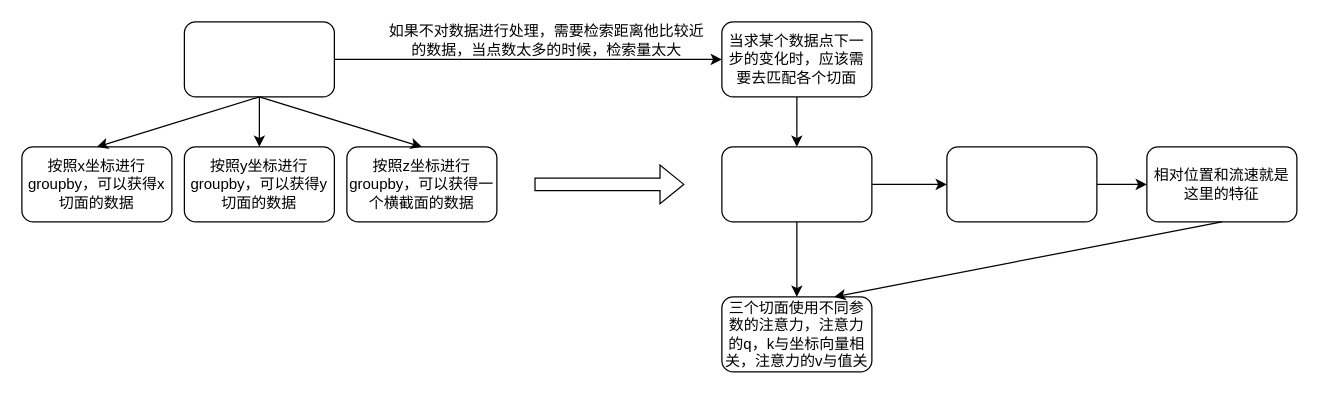
Some shapes in this 1319 by 394 pixel diagram are drawn without their labels. Each missing label, with the box of its shape:
原始数据（无序x、y、z坐标点对应的速度向量）: (183, 21, 334, 97)
把切面中的点的数据重新组织为坐标的形式，并减去当前待求点的坐标，相对位置: (946, 146, 1097, 222)
需要各个切面，x、y、z方向三个切面，前后中，: (721, 146, 872, 222)
